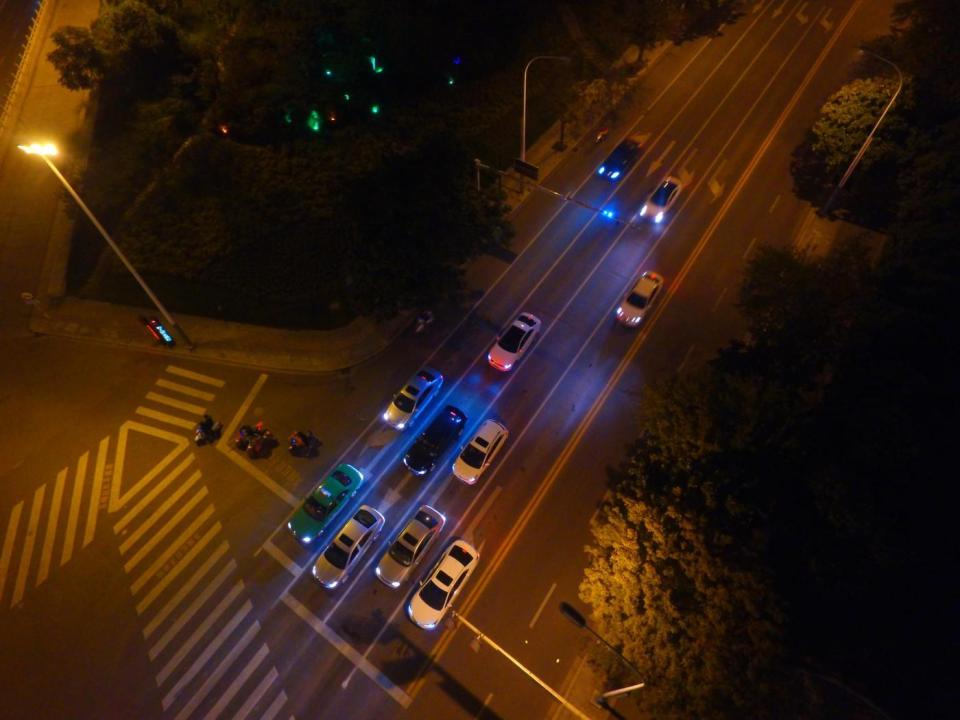car: (287, 464, 366, 552), (311, 506, 385, 592), (408, 541, 479, 630), (375, 504, 446, 589), (403, 404, 464, 477), (382, 369, 444, 432), (451, 421, 507, 488), (488, 312, 540, 374), (615, 271, 663, 330), (640, 176, 682, 222), (598, 138, 641, 180)
